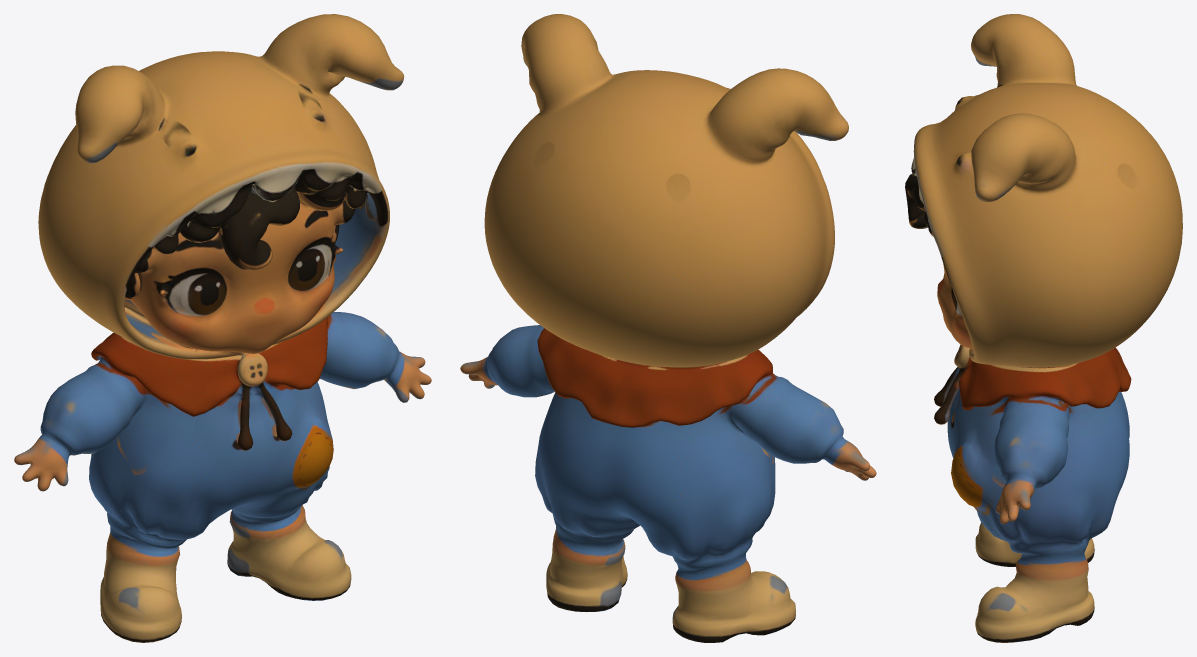
The model's file is bunny hooded kid 3d model v1.glb.
3 views of the same model, side by side, from view 1: azimuth 30°, elevation 25°; view 2: azimuth 150°, elevation 25°; view 3: azimuth 270°, elevation 25° (orthographic). The views are drawn at different scales.
Visible parts, largest first — view 1: tripo_node_75c8601d; view 2: tripo_node_75c8601d; view 3: tripo_node_75c8601d.
Boxes of the visible parts, x1,y1,x2,y2 form: tripo_node_75c8601d: (14,14,431,642); tripo_node_75c8601d: (460,14,876,642); tripo_node_75c8601d: (905,14,1182,642).
Bounding box in the file's own units: 0.7644 × 0.9998 × 0.4792.
Materials: 1 (1 with a texture image).
